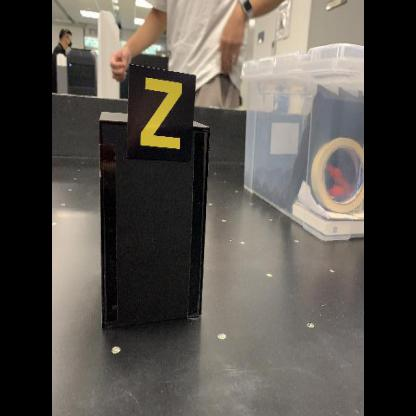z: (126, 62, 198, 164)
